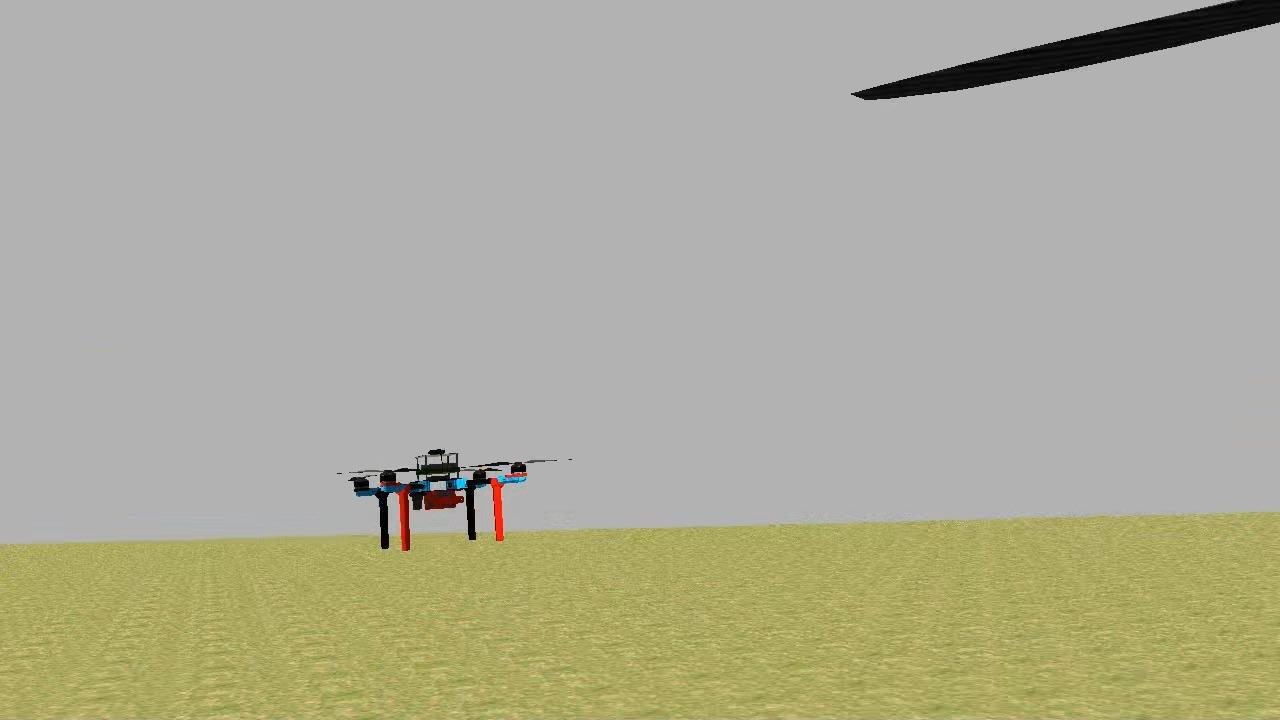UAV: (350, 442, 534, 554)
